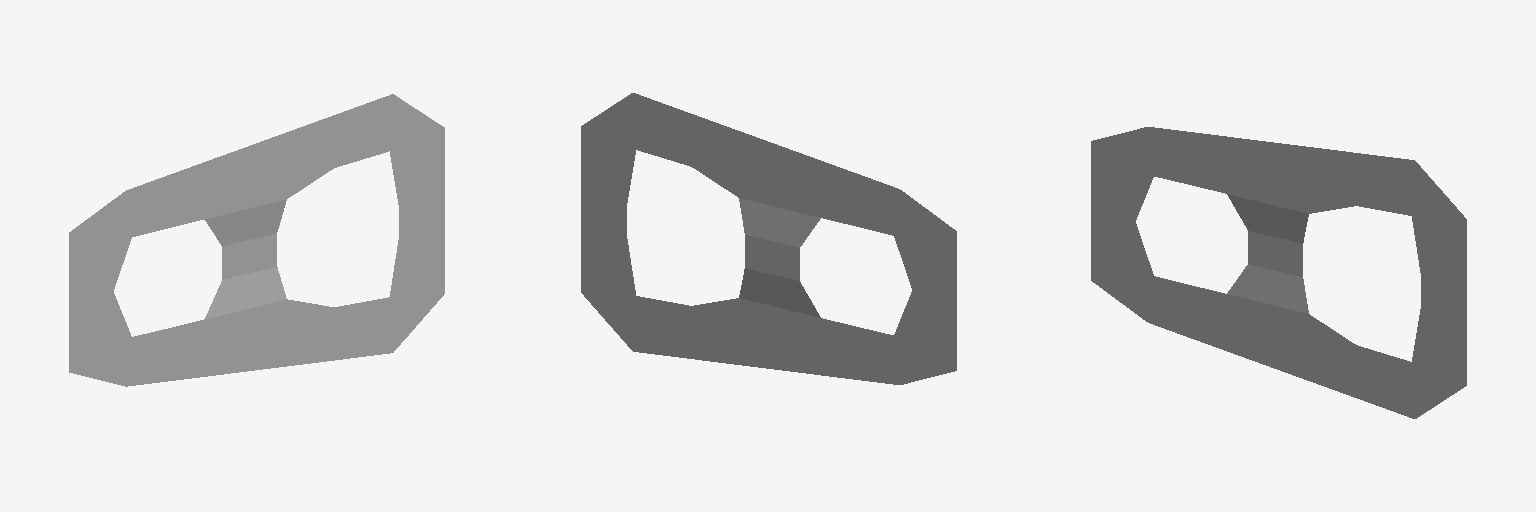
Rendered from Can_Tab.obj.
3 renders of one model, left to right at view 1: azimuth 30°, elevation 25°; view 2: azimuth 150°, elevation 25°; view 3: azimuth 330°, elevation 25°, orthographic.
Visible parts, largest first — view 1: Plane001; view 2: Plane001; view 3: Plane001.
Boxes of the visible parts, <box> form: Plane001: <box>69,94,444,386</box>; Plane001: <box>581,93,956,384</box>; Plane001: <box>1091,127,1466,418</box>.
Size of the model in its own units: 1.78 by 1.18 by 0.0158.